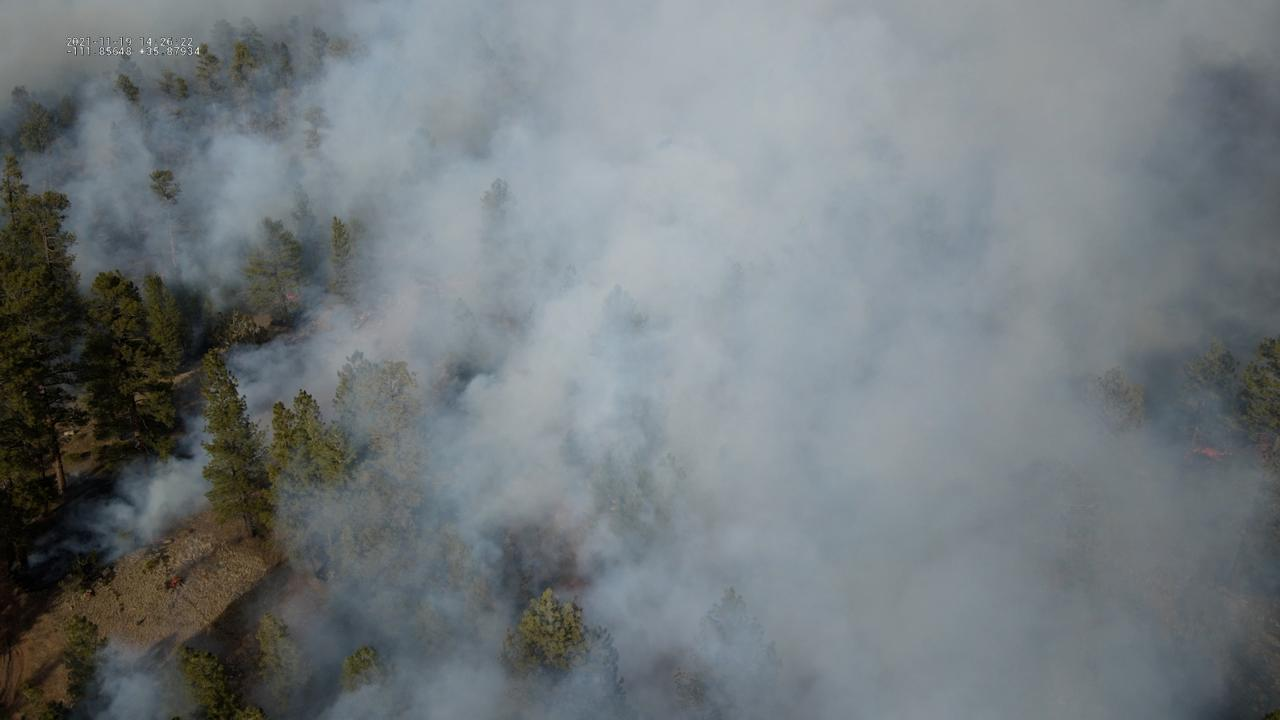fire: (1189, 445, 1227, 465), (168, 574, 179, 589), (286, 292, 296, 302)
smoke: (0, 0, 1280, 720)
